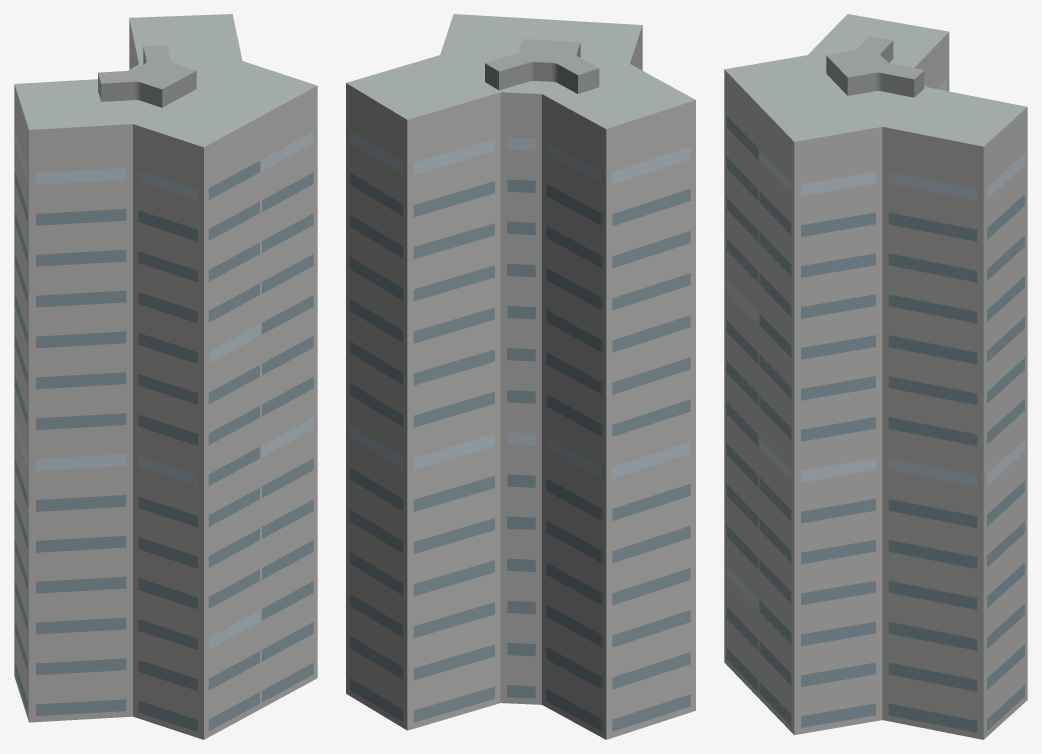
The model's file is fallback-jamsil-els-111.glb.
The picture shows the model from 3 angles, left to right: view 1: azimuth 30°, elevation 25°; view 2: azimuth 150°, elevation 25°; view 3: azimuth 270°, elevation 25°; orthographic projection. The views are drawn at different scales.
Parts seen in each view (by area): view 1: fallback-jamsil-els-111; view 2: fallback-jamsil-els-111; view 3: fallback-jamsil-els-111.
Part boxes in pixels (bbox=[...]): fallback-jamsil-els-111: bbox=[14, 14, 317, 739]; fallback-jamsil-els-111: bbox=[346, 14, 695, 739]; fallback-jamsil-els-111: bbox=[724, 14, 1027, 739].
Bounding box in the file's own units: 37.22 × 80 × 35.93.
